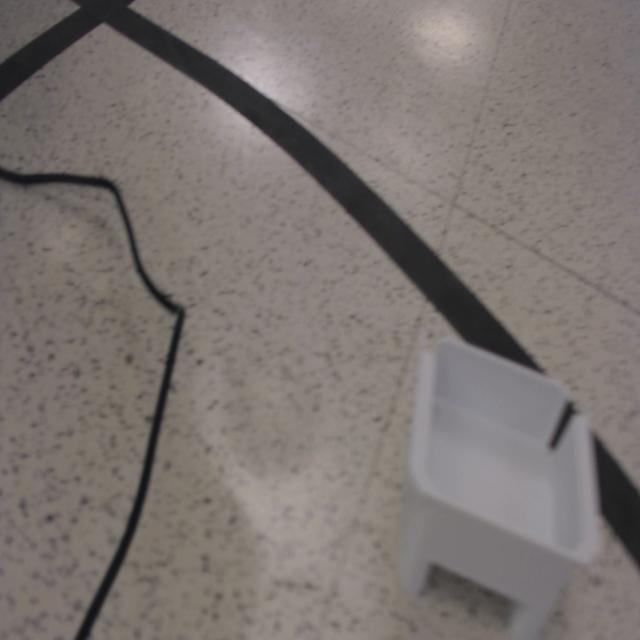wbox: (393, 332, 603, 634)
